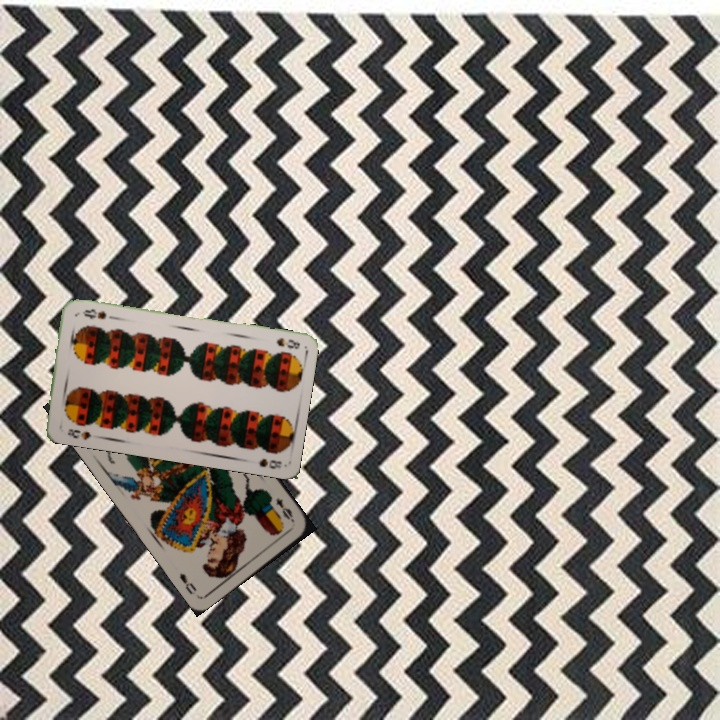EO: (272, 493, 297, 525)
S8: (63, 425, 94, 443), (273, 334, 302, 352)
